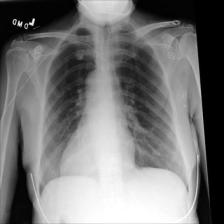normal: (38, 22, 191, 193)
